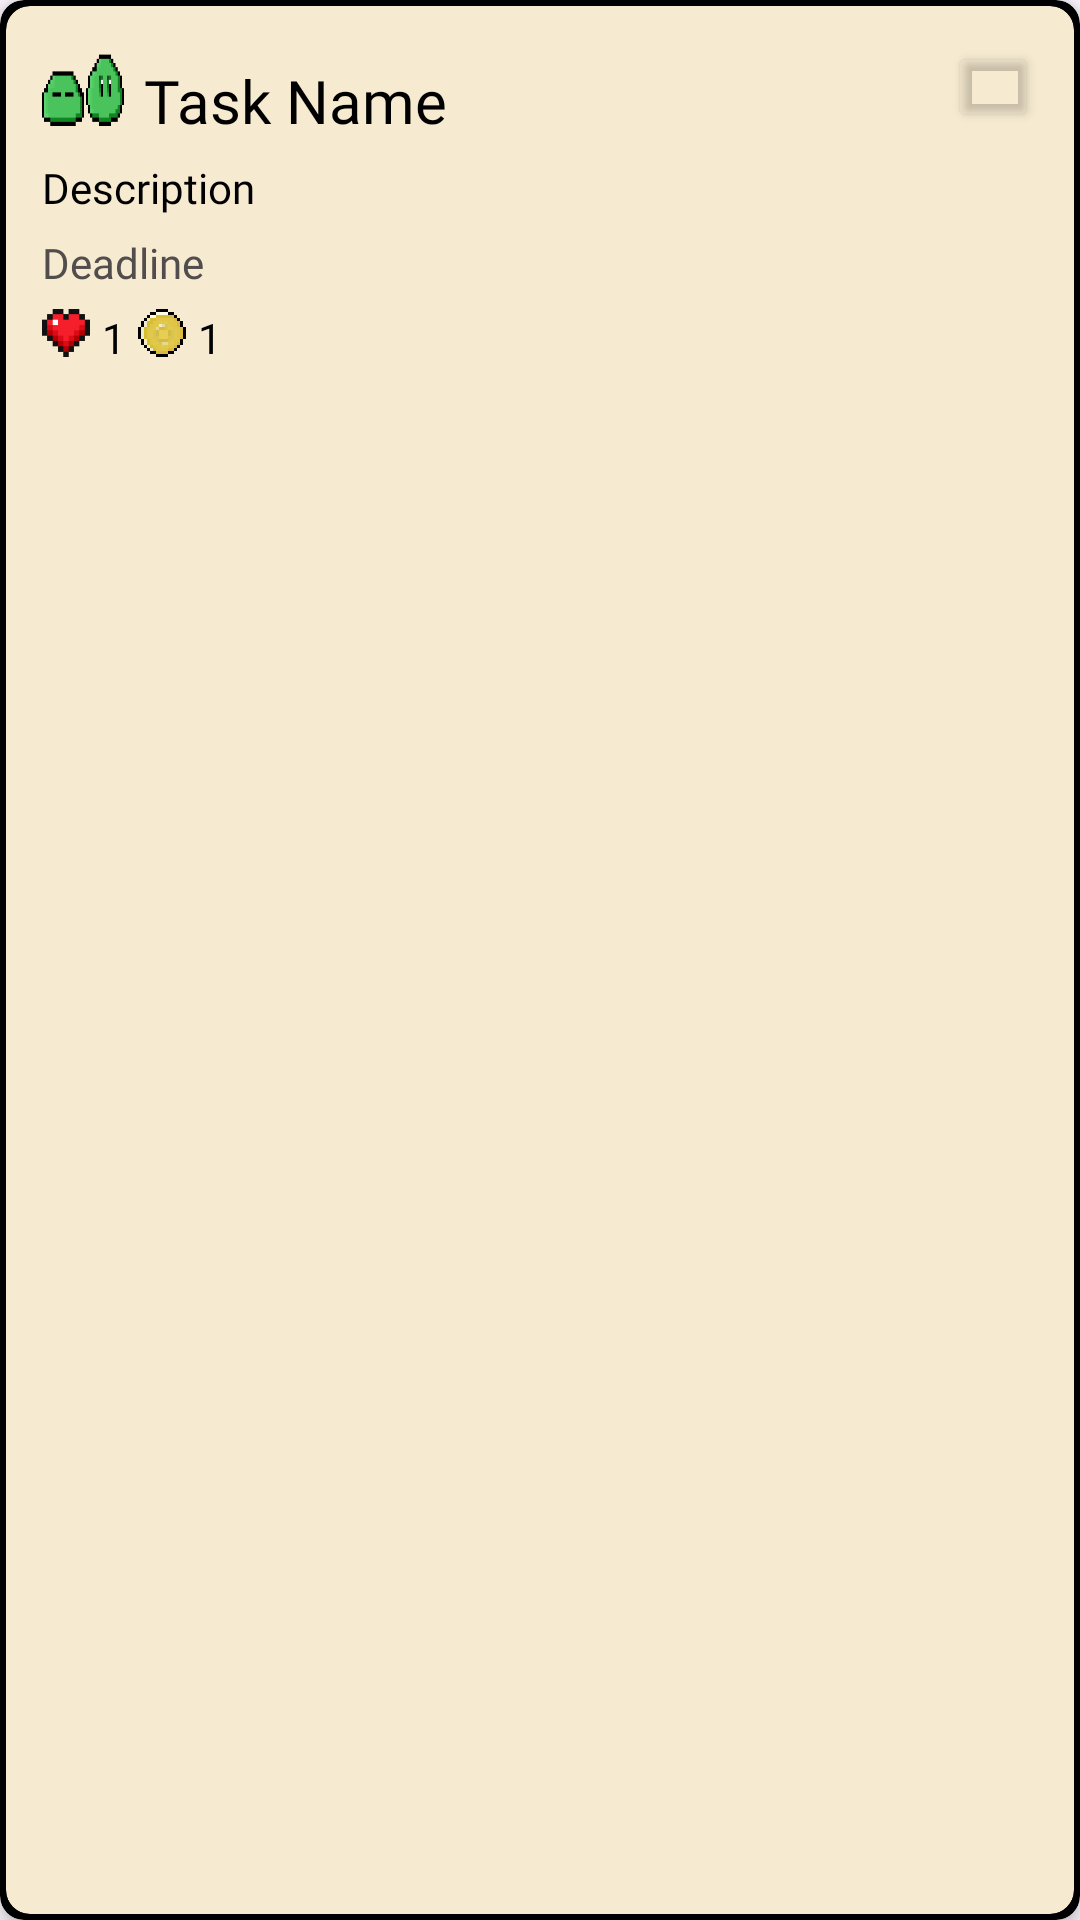

Icon click points for this 1080 × 1920 phone screenshot, format [x,y]:
coin: [162,333]
enemy slime: [83,90]
health: [66,333]
